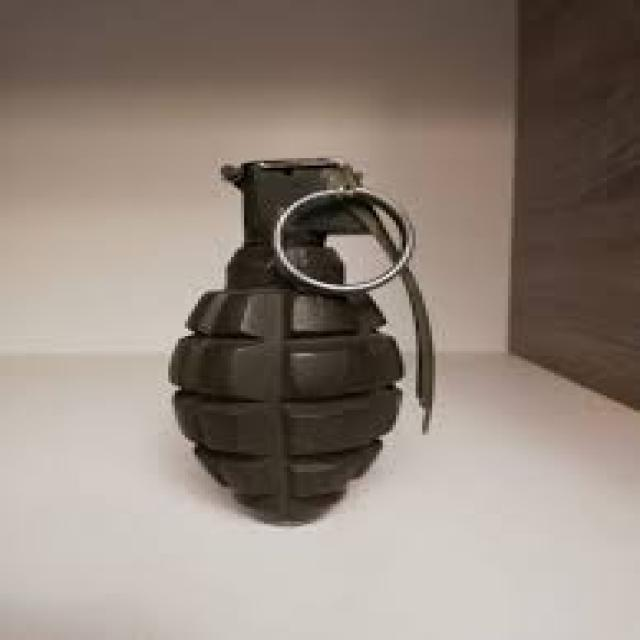grenade: (165, 157, 451, 535)
